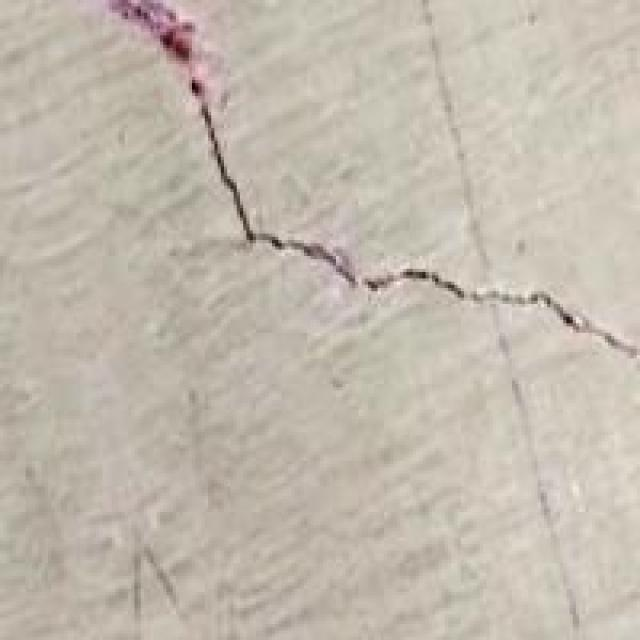Crack: (122, 0, 620, 394)
